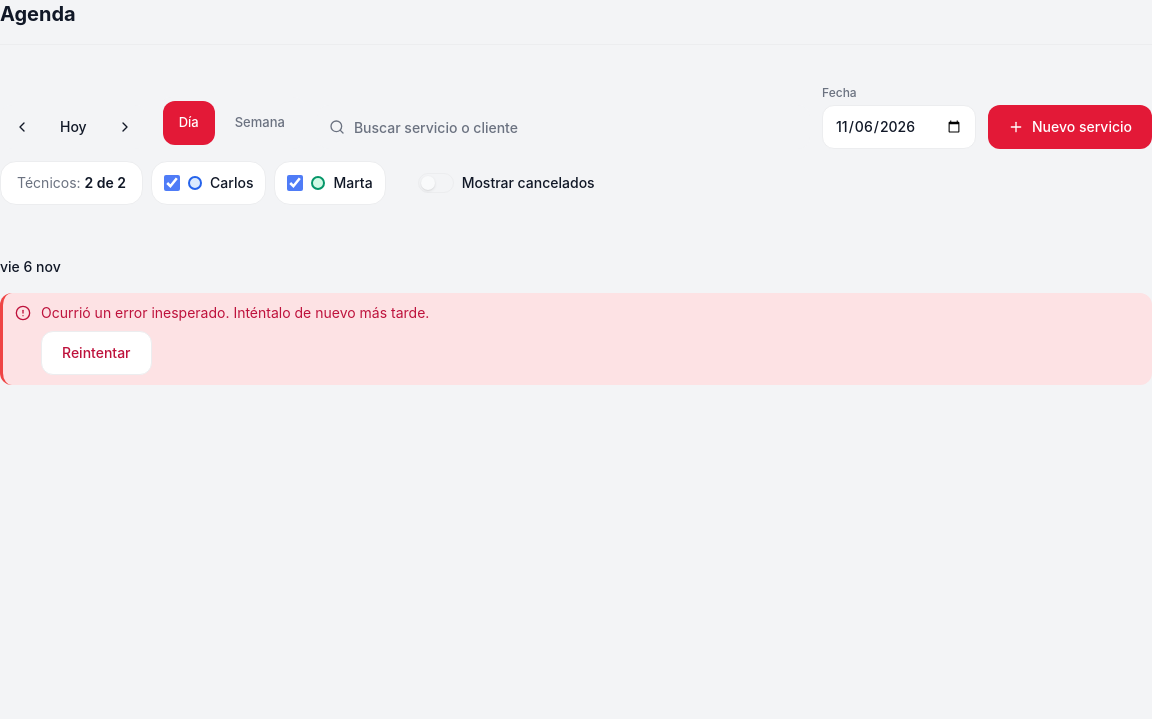
Test case: AgendaPage: horas visibles › muestra el error de las horas y permite reintentar
The width and height of the screenshot is (1152, 719).
Expected: the message "Ocurrió un error inesperado. Inténtalo de nuevo más tarde. Reintentar" is shown, [0, 293, 1151, 385]
Step 1. Click the button "Reintentar" → (96, 353), box [41, 331, 152, 375]
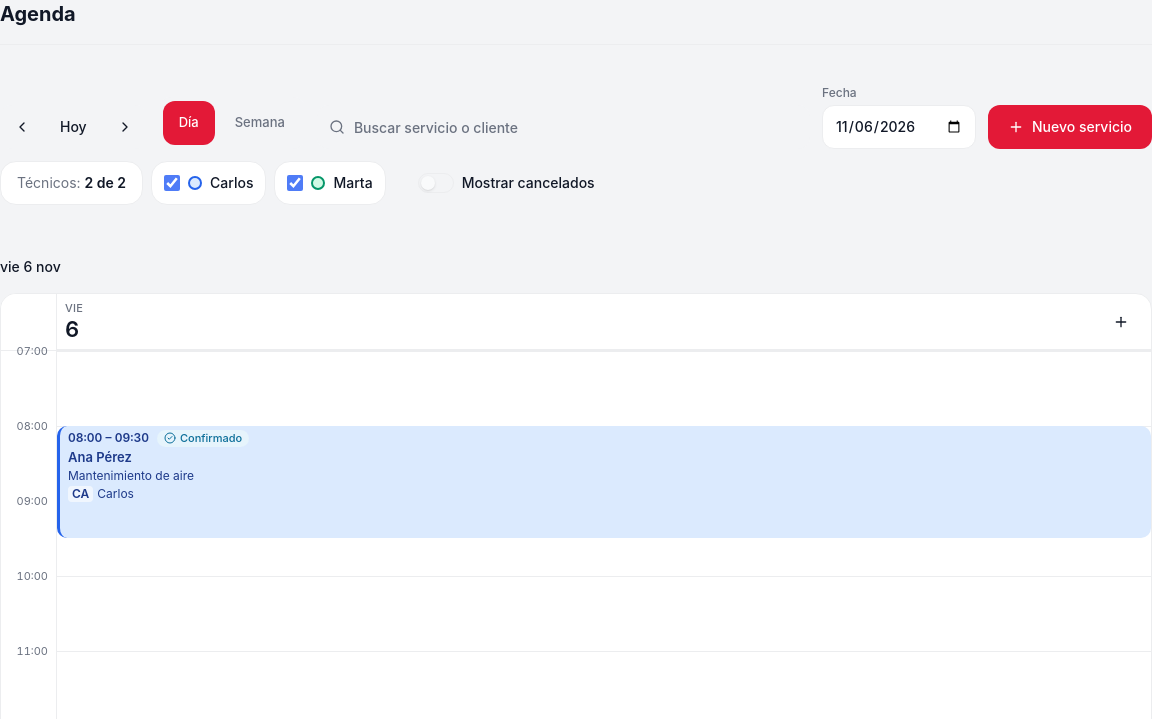
Now the button "Ana Pérez" is shown, box [57, 426, 1151, 538]
